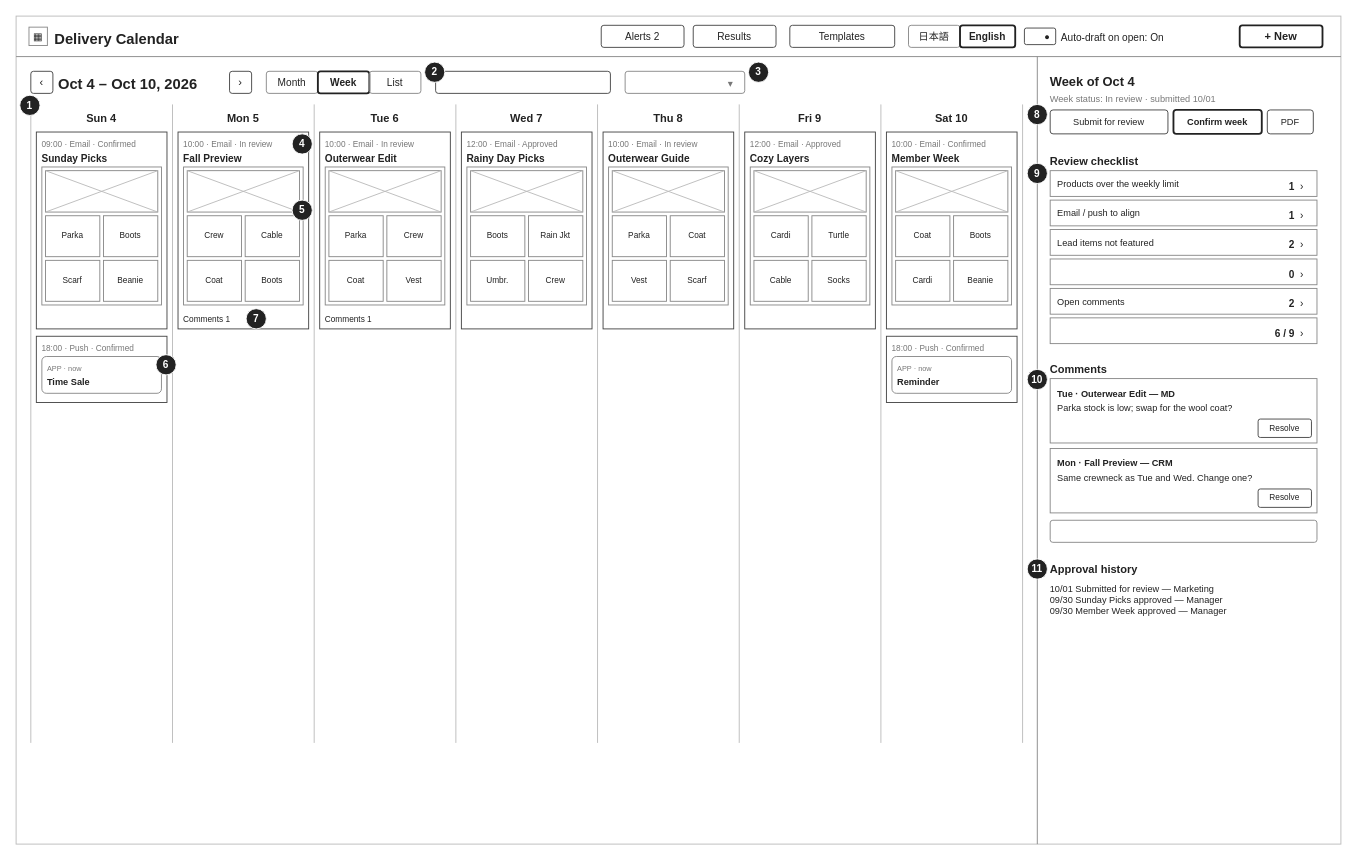
Some shapes in this 1358 by 861 pixel diagram are drawn without their labels. Each missing label, with the box of its shape:
Add a comment…: (1049, 519, 1317, 542)
Approved deliveries: (1049, 317, 1317, 344)
Channel: All: (624, 70, 745, 93)
Compare with previous week: (435, 70, 610, 93)
Same main image or theme in a row: (1049, 258, 1317, 285)
